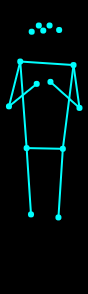mountain: (5, 16, 84, 226)
